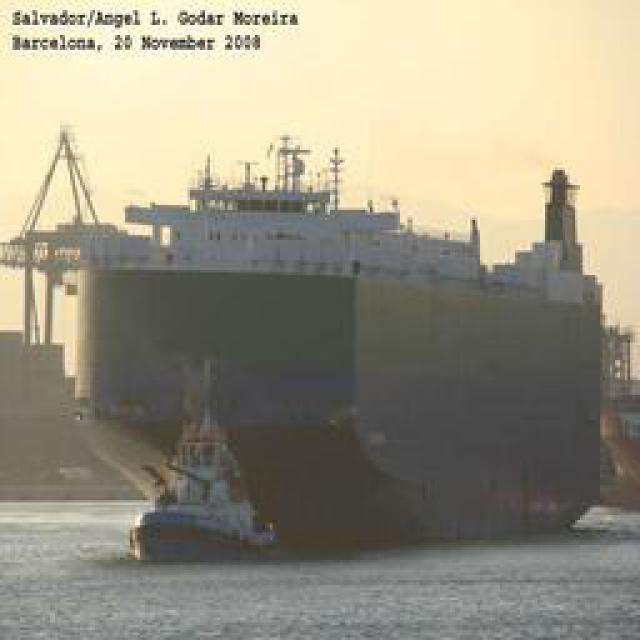Ship: (47, 135, 605, 536), (111, 405, 300, 581)
